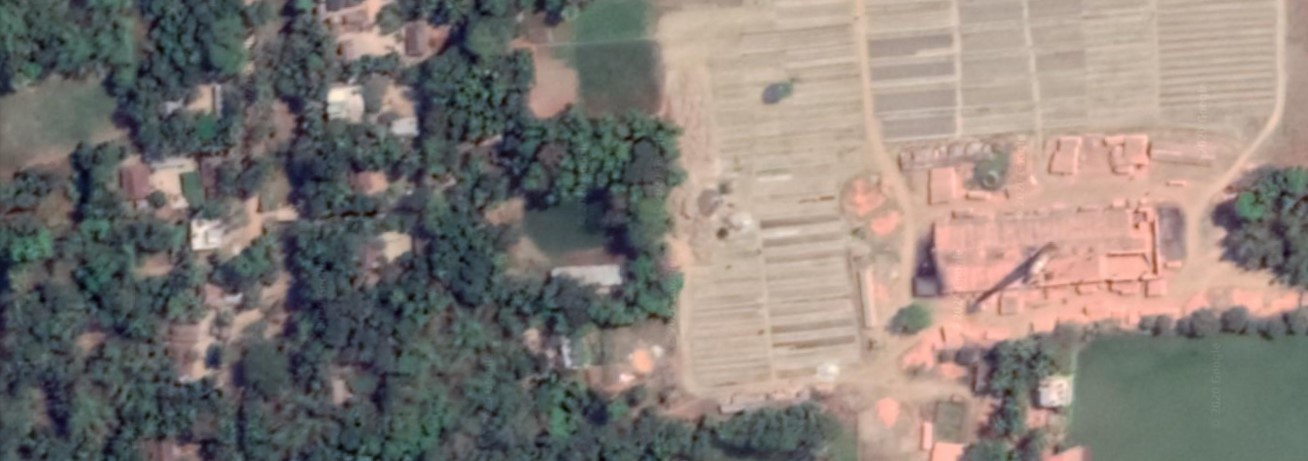kiln: (924, 176, 1173, 307)
